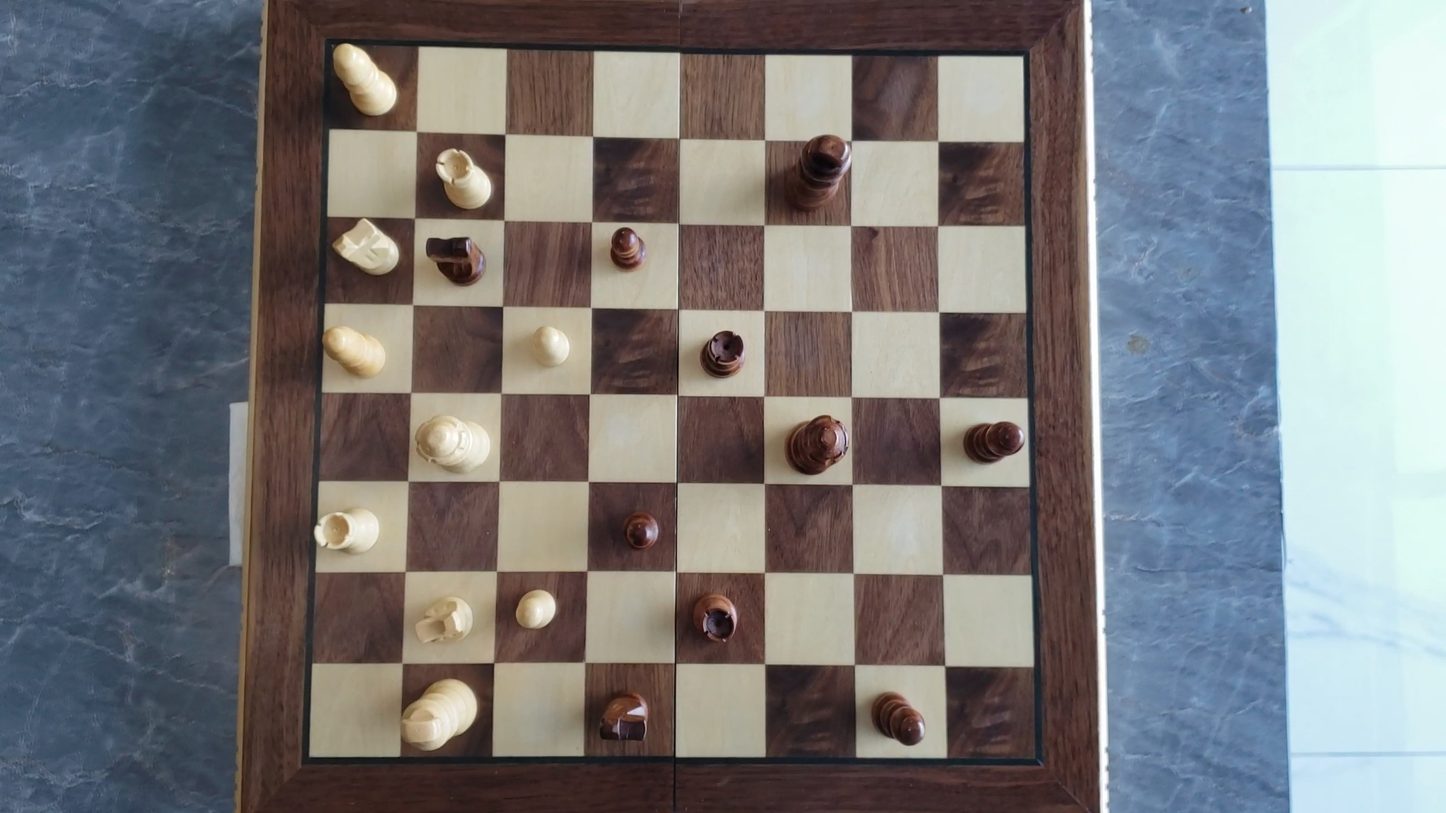black-bishop: (869, 688, 929, 747), (962, 417, 1024, 464)
black-king: (775, 129, 860, 219)
black-knight: (580, 675, 671, 747), (424, 232, 486, 287)
black-pawn: (607, 223, 648, 272), (621, 508, 663, 552)
black-queen: (772, 399, 852, 483)
black-rook: (689, 588, 741, 655), (698, 325, 748, 377)
white-bishop: (309, 320, 402, 387), (331, 43, 404, 117)
white-king: (391, 666, 486, 754)
white-knight: (332, 214, 402, 279), (411, 593, 478, 647)
white-pawn: (511, 584, 562, 633), (528, 321, 576, 371)
white-queen: (409, 403, 501, 486)
white-rook: (432, 143, 496, 213), (312, 504, 384, 556)
